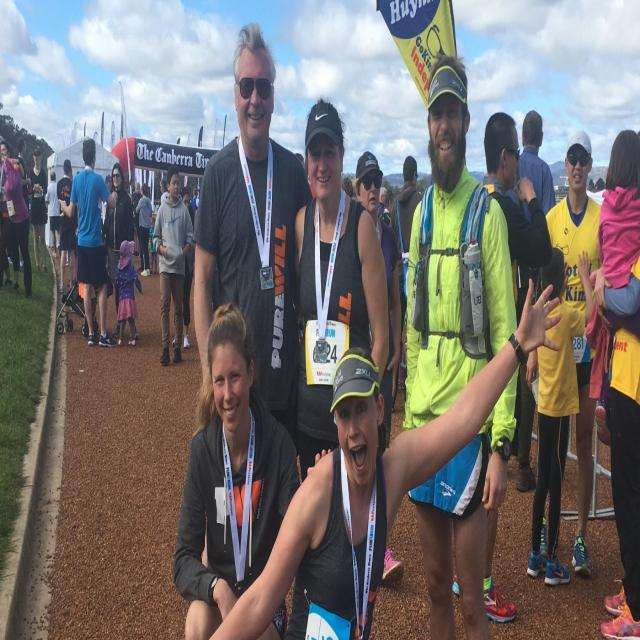body: (168, 276, 562, 639), (192, 19, 314, 638), (400, 50, 522, 640), (450, 110, 555, 629), (174, 303, 301, 639), (293, 98, 391, 486), (524, 129, 605, 578), (346, 150, 406, 587), (524, 244, 598, 590), (592, 125, 640, 639), (499, 109, 559, 492), (594, 128, 640, 448), (58, 137, 119, 350), (152, 166, 196, 367), (389, 155, 425, 340), (103, 162, 135, 338), (0, 139, 33, 300), (171, 185, 197, 350), (113, 239, 144, 347), (56, 158, 78, 294), (27, 146, 48, 274), (0, 125, 14, 301), (135, 182, 153, 278), (44, 170, 62, 258), (292, 152, 315, 214), (16, 138, 32, 214), (125, 178, 139, 260), (336, 170, 362, 208), (380, 183, 403, 224), (133, 182, 143, 258), (588, 173, 606, 210), (132, 180, 144, 230), (149, 216, 157, 276), (159, 177, 171, 205), (189, 186, 200, 213), (104, 173, 112, 192)
